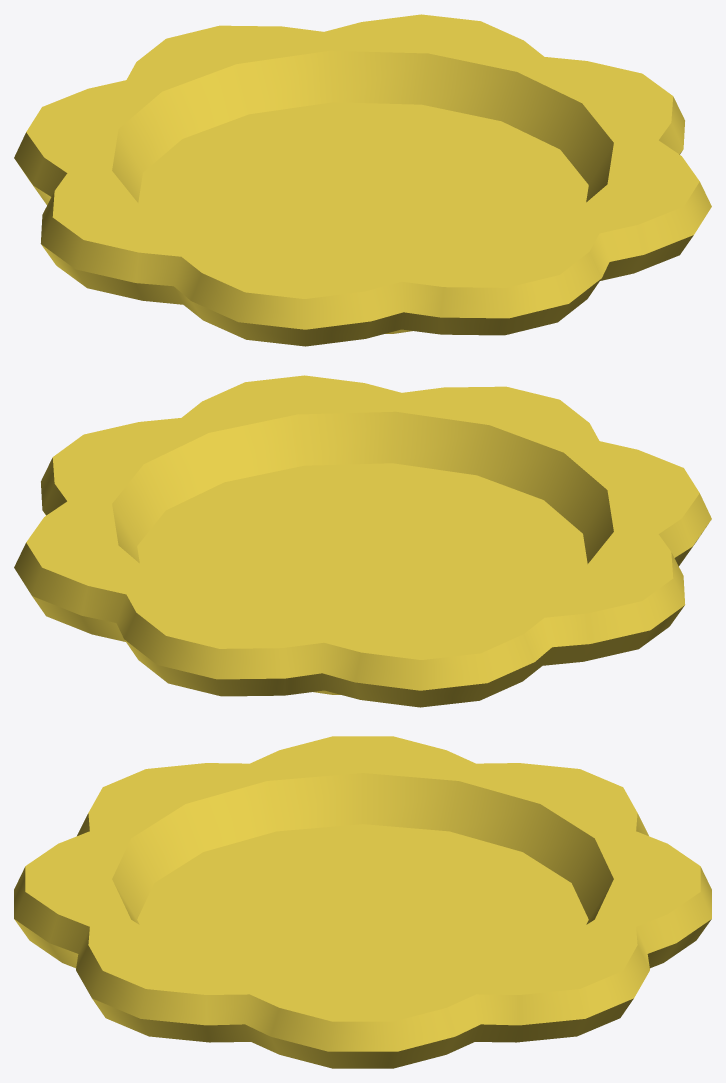
Rendered from itch_tiny_pleasant_picnic_plate_b.glb.
3 renders of one model, top to bottom at view 1: azimuth 30°, elevation 25°; view 2: azimuth 150°, elevation 25°; view 3: azimuth 270°, elevation 25°, orthographic.
Parts seen in each view (by area): view 1: plate_B; view 2: plate_B; view 3: plate_B.
Boxes of the visible parts, bbox=[...] form: plate_B: bbox=[14, 14, 711, 346]; plate_B: bbox=[14, 375, 711, 707]; plate_B: bbox=[14, 736, 711, 1068].
Size of the model in its own units: 0.42 by 0.0538 by 0.42.
